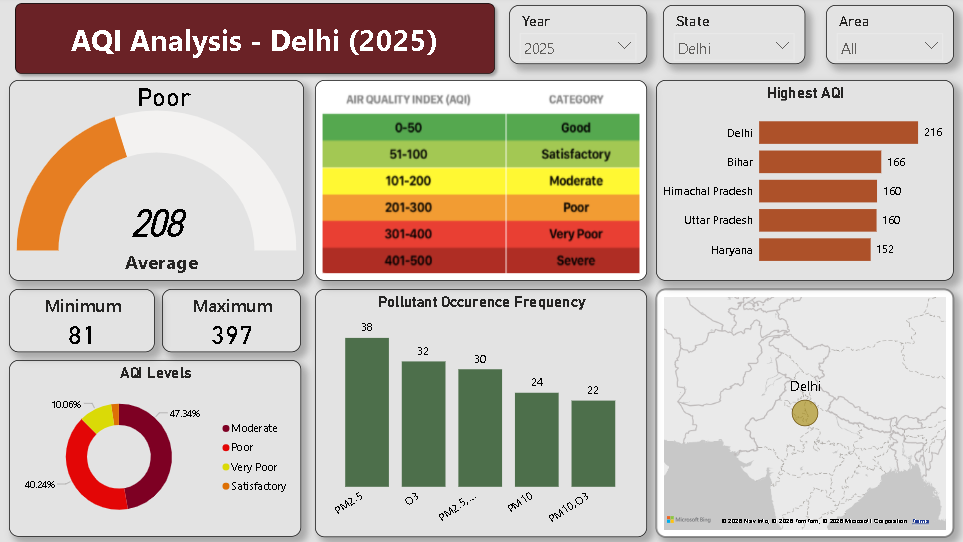

The dashboard page shown, as its layout file describes it:
{"tool":"powerbi","page":{"name":"Page 1","canvas":[1400,800],"ordinal":0},"visuals":[{"type":"slicer","fields":{"Values":["Calendar_Table.Year"]},"box":[740.4,11.6,200.7,85.8],"z":0},{"type":"slicer","fields":{"Values":["day_wise_aqi_data.area"]},"box":[1201.5,11.6,186.2,85.8],"z":1000},{"type":"slicer","fields":{"Values":["day_wise_aqi_data.state"]},"box":[964.4,11.6,206.5,85.8],"z":2000},{"type":"shape","box":[13.1,0,715.6,120.7],"z":3000},{"type":"gauge","fields":{"Y":["day_wise_aqi_data.AvgAQI"],"MinValue":["day_wise_aqi_data.min_aqi"],"MaxValue":["day_wise_aqi_data.max_aqi"]},"box":[13.1,120.7,429.1,292.4],"z":4000},{"type":"textbox","box":[32,360,406.4,52.8],"z":5000},{"type":"card","title":"Minimum","fields":{"Values":["day_wise_aqi_data.min_aqi"]},"box":[13.1,424.7,212.4,91.6],"z":6000},{"type":"card","title":"Maximum","fields":{"Values":["day_wise_aqi_data.max_aqi"]},"box":[235.6,424.7,202.2,91.6],"z":7000},{"type":"card","fields":{"Values":["day_wise_aqi_data.AQI Category"]},"box":[35.2,115.2,406.4,54.4],"z":8000},{"type":"map","fields":{"Category":["day_wise_aqi_data.state"],"Size":["day_wise_aqi_data.AvgAQI"]},"box":[954.2,424.7,433.5,360.7],"z":9000},{"type":"barChart","title":"Highest AQI","fields":{"Y":["day_wise_aqi_data.AvgAQI"],"Category":["day_wise_aqi_data.state"]},"box":[954.2,120.7,433.5,292.4],"z":10000},{"type":"image","box":[458.2,120.7,482.9,292.4],"z":11000},{"type":"donutChart","title":"AQI Levels","fields":{"Category":["day_wise_aqi_data.air_quality_status"],"Y":["day_wise_aqi_data.countrows"]},"box":[13.1,528,424.7,257.5],"z":12000},{"type":"columnChart","title":"Pollutant Occurence Frequency","fields":{"Category":["day_wise_aqi_data.prominent_pollutants"],"Y":["day_wise_aqi_data.countrows"]},"box":[458.2,424.7,482.9,360.7],"z":13000},{"type":"card","fields":{"Values":["day_wise_aqi_data.dynamic title"]},"box":[13.1,11.6,714.2,98.9],"z":14000}]}

Visuals, with their boxes in screenshot pixels (x1, y1, x2, y2), scaled from the page's 1400x800 canvas onto the 963x542 screenshot:
slicer - Calendar_Table.Year: rect(509, 8, 647, 66)
slicer - day_wise_aqi_data.area: rect(826, 8, 955, 66)
slicer - day_wise_aqi_data.state: rect(663, 8, 805, 66)
shape: rect(9, 0, 501, 82)
gauge - day_wise_aqi_data.AvgAQI x day_wise_aqi_data.min_aqi: rect(9, 82, 304, 280)
textbox: rect(22, 244, 302, 280)
"Minimum" card: rect(9, 288, 155, 350)
"Maximum" card: rect(162, 288, 301, 350)
card - day_wise_aqi_data.AQI Category: rect(24, 78, 304, 115)
map - day_wise_aqi_data.state x day_wise_aqi_data.AvgAQI: rect(656, 288, 955, 532)
"Highest AQI" barChart: rect(656, 82, 955, 280)
image: rect(315, 82, 647, 280)
"AQI Levels" donutChart: rect(9, 358, 301, 532)
"Pollutant Occurence Frequency" columnChart: rect(315, 288, 647, 532)
card - day_wise_aqi_data.dynamic title: rect(9, 8, 500, 75)
